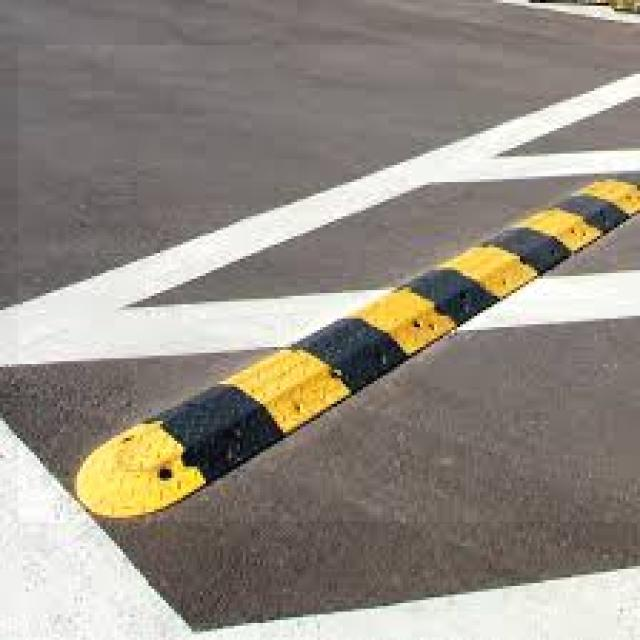speed-bump: (18, 45, 640, 522)
